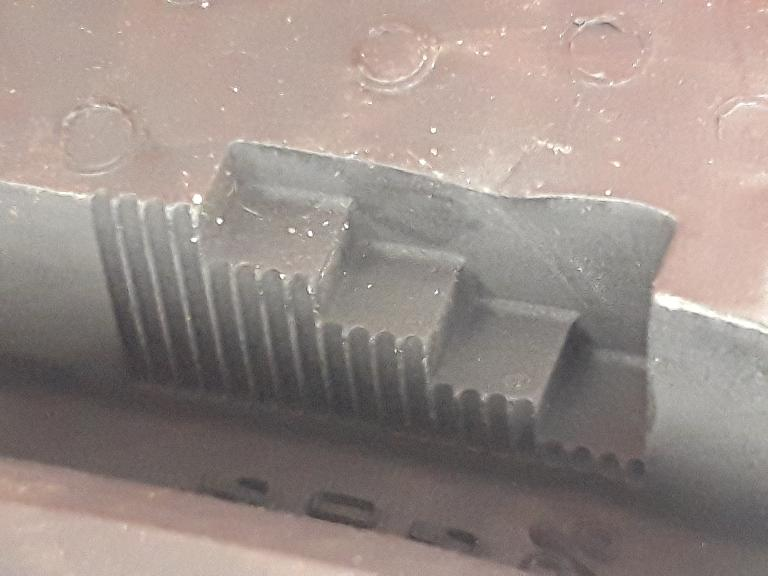temoin:100: (87, 138, 676, 490)
